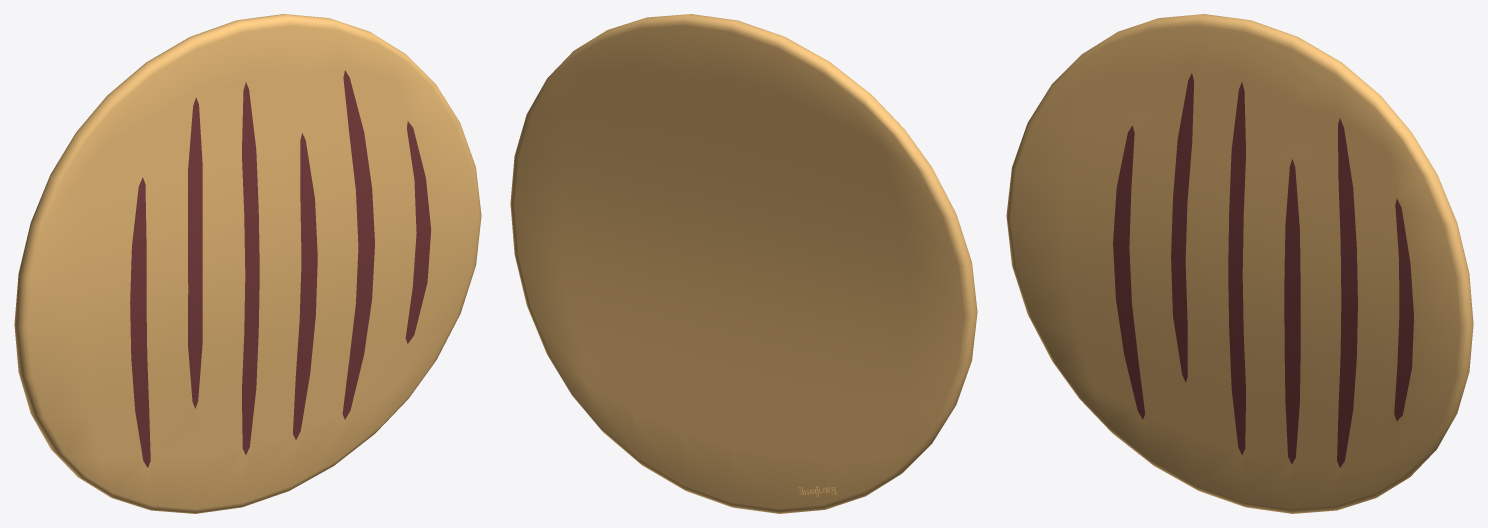
The model's file is flatbread.fbx.
3 views of the same model, side by side, from view 1: azimuth 30°, elevation 25°; view 2: azimuth 150°, elevation 25°; view 3: azimuth 330°, elevation 25° (orthographic).
Visible parts, largest first — view 1: Plane.202; view 2: Plane.202; view 3: Plane.202.
Part boxes in pixels (x1,y1,x2,y2): Plane.202: (14,14,481,513); Plane.202: (510,14,977,513); Plane.202: (1006,14,1473,513).
Bounding box in the file's own units: 242 × 242 × 15.83.
Materials: 1 (1 with a texture image).
